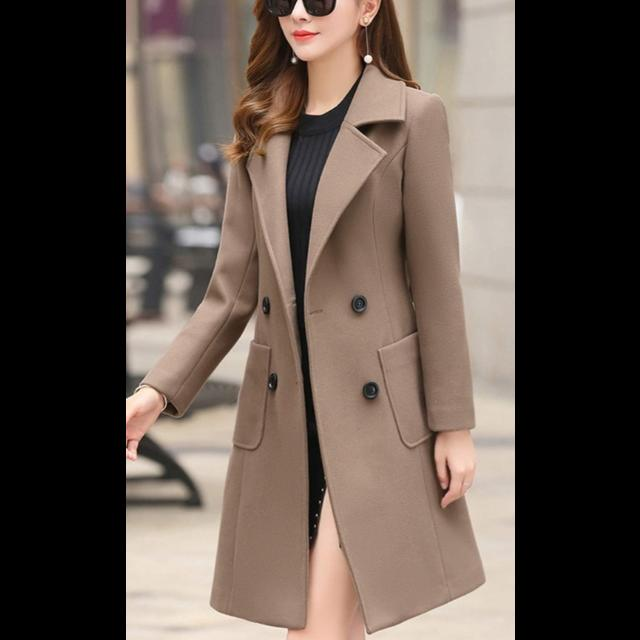jacket: (200, 95, 486, 621)
